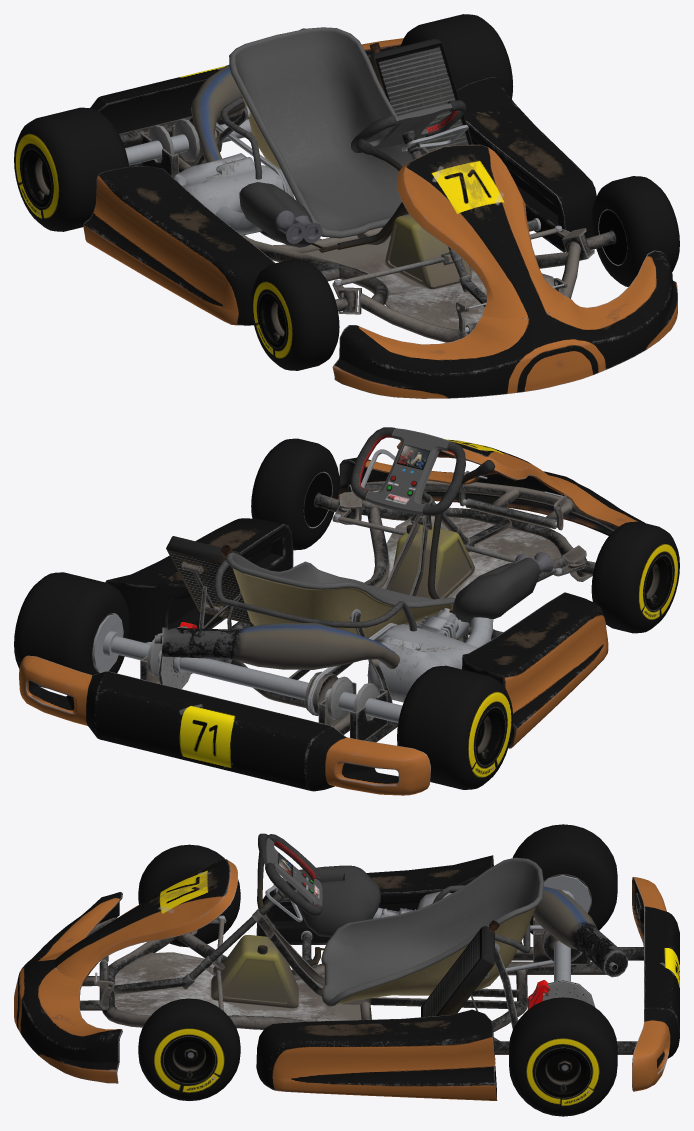
The model's file is racing_kart_125cc_low_poly (1).glb.
The picture shows the model from 3 angles, top to bottom: view 1: azimuth 30°, elevation 25°; view 2: azimuth 150°, elevation 25°; view 3: azimuth 270°, elevation 25°; orthographic projection. The views are drawn at different scales.
Visible parts, largest first — view 1: object 10, object 12, object 19, object 18, object 8, object 9, object 16, object 11, object 6, engine_low, object 7, engine_high.001 (+2 smaller); view 2: object 10, object 11, object 8, object 12, object 19, engine_high.001, object 3, object 16, object 18, engine_low, object 6, object 7 (+4 smaller); view 3: object 10, object 12, object 8, object 19, object 18, object 9, object 11, object 7, object 6, object 16, engine_high.001, object 3 (+2 smaller).
Boxes of the visible parts, left/top/right/bottom form: object 10: left=14, top=14, right=679, bottom=370; object 12: left=83, top=77, right=596, bottom=325; object 19: left=229, top=27, right=429, bottom=238; object 18: left=332, top=250, right=677, bottom=398; object 8: left=124, top=106, right=615, bottom=342; object 9: left=396, top=144, right=563, bottom=318; object 16: left=220, top=39, right=472, bottom=179; object 11: left=90, top=38, right=403, bottom=147; object 6: left=215, top=182, right=322, bottom=247; engine_low: left=174, top=153, right=294, bottom=234; object 7: left=385, top=214, right=471, bottom=289; engine_high.001: left=191, top=28, right=306, bottom=162; object 10: left=14, top=438, right=679, bottom=789; object 11: left=19, top=655, right=430, bottom=795; object 8: left=92, top=488, right=595, bottom=742; object 12: left=105, top=518, right=608, bottom=748; object 19: left=226, top=552, right=455, bottom=638; engine_high.001: left=154, top=622, right=400, bottom=669; object 3: left=351, top=427, right=465, bottom=515; object 16: left=166, top=536, right=416, bottom=631; object 18: left=338, top=457, right=645, bottom=535; engine_low: left=367, top=608, right=477, bottom=702; object 6: left=452, top=552, right=553, bottom=647; object 7: left=390, top=524, right=474, bottom=598; object 10: left=138, top=824, right=617, bottom=1116; object 12: left=256, top=855, right=497, bottom=1100; object 8: left=80, top=875, right=643, bottom=1054; object 19: left=321, top=857, right=543, bottom=1006; object 18: left=14, top=892, right=122, bottom=1083; object 9: left=55, top=859, right=237, bottom=982; object 11: left=632, top=877, right=679, bottom=1091; object 7: left=211, top=935, right=298, bottom=1008; object 6: left=274, top=865, right=398, bottom=937; object 16: left=421, top=885, right=530, bottom=1017; engine_high.001: left=533, top=886, right=628, bottom=977; object 3: left=262, top=834, right=322, bottom=916.
Size of the model in its own units: 198 by 76.52 by 272.
Materials: 3 (3 with a texture image).
